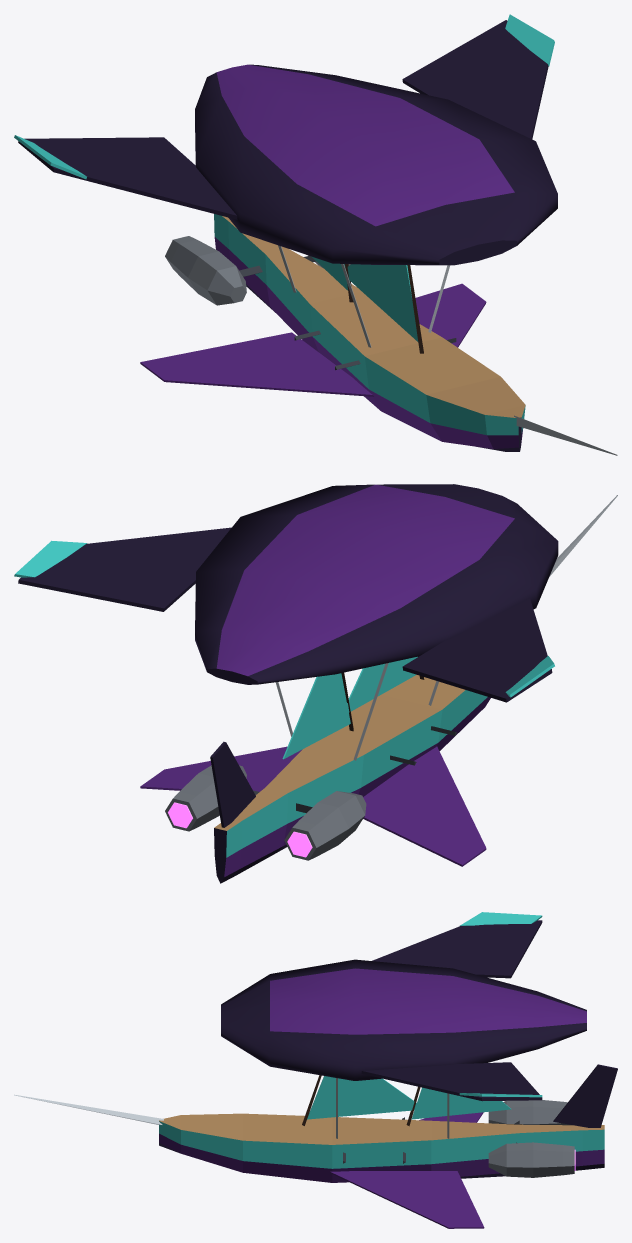
Rendered from SM_Ship_Mirage_LQ.glb.
The picture shows the model from 3 angles, top to bottom: view 1: azimuth 30°, elevation 25°; view 2: azimuth 150°, elevation 25°; view 3: azimuth 270°, elevation 25°; orthographic projection. The views are drawn at different scales.
Parts seen in each view (by area): view 1: SM_Ship_Mirage_LQ; view 2: SM_Ship_Mirage_LQ; view 3: SM_Ship_Mirage_LQ.
Boxes of the visible parts, left/top/right/bottom form: SM_Ship_Mirage_LQ: left=14, top=14, right=617, bottom=455; SM_Ship_Mirage_LQ: left=14, top=484, right=617, bottom=883; SM_Ship_Mirage_LQ: left=14, top=912, right=617, bottom=1228.
Size of the model in its own units: 19.44 by 9.14 by 27.1.
Materials: 1 (1 with a texture image).
